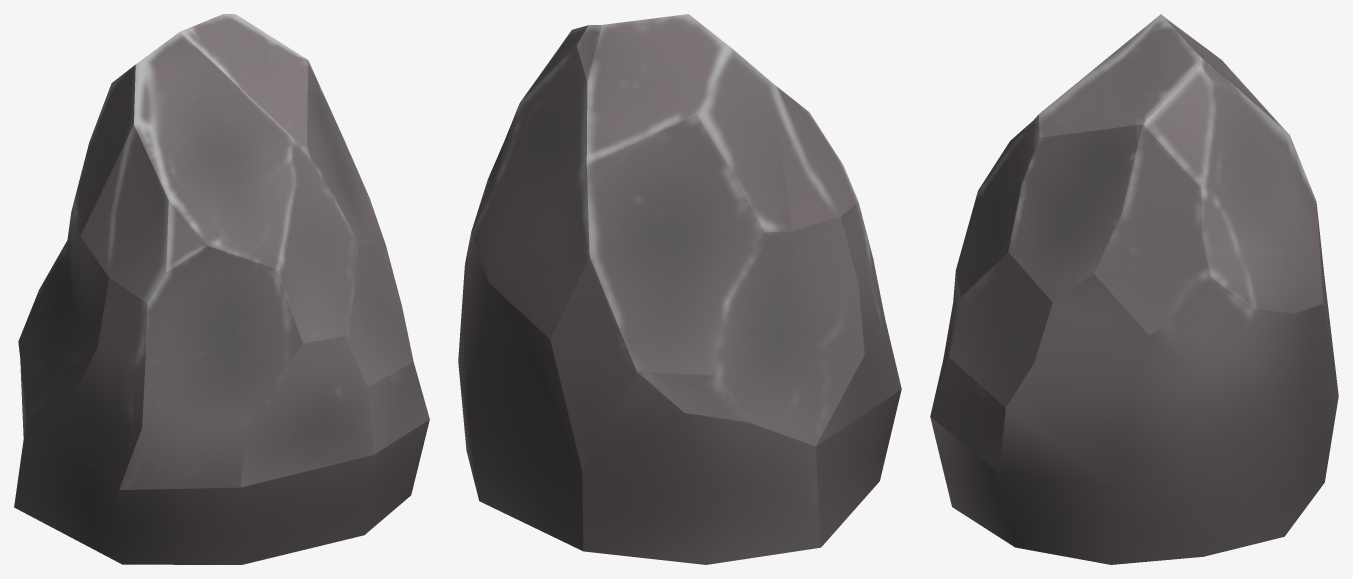
File: ROK0110001.fbx
3 views of the same model, side by side, from view 1: azimuth 30°, elevation 25°; view 2: azimuth 150°, elevation 25°; view 3: azimuth 270°, elevation 25° (orthographic). The views are drawn at different scales.
Parts seen in each view (by area): view 1: smROK0110001; view 2: smROK0110001; view 3: smROK0110001.
Boxes of the visible parts, x1,y1,x2,y2 form: smROK0110001: (14, 14, 429, 564); smROK0110001: (458, 14, 901, 564); smROK0110001: (930, 14, 1338, 564).
Bounding box in the file's own units: 70.16 × 88.47 × 70.63.
1 material, 1 textured.
